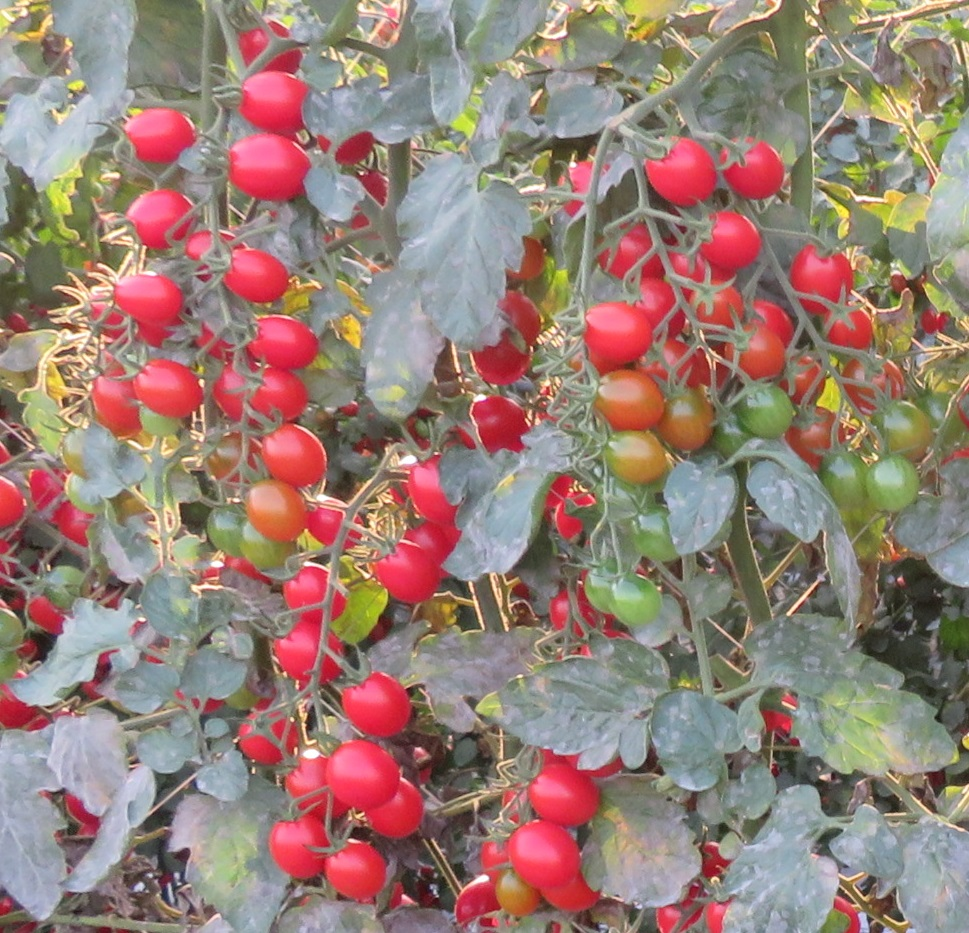green: (868, 402, 933, 456), (607, 573, 665, 633), (862, 458, 921, 516), (735, 385, 794, 440), (819, 446, 867, 513), (627, 507, 677, 568), (206, 505, 247, 562), (583, 569, 611, 617)
orange: (583, 373, 665, 431), (592, 431, 675, 486), (243, 481, 315, 540), (260, 426, 327, 485), (727, 325, 792, 382), (789, 405, 846, 464), (318, 126, 374, 166), (825, 305, 874, 350), (508, 236, 549, 280), (341, 398, 358, 418)
red: (222, 133, 309, 205), (323, 736, 407, 809), (337, 670, 420, 742), (500, 824, 583, 895), (231, 70, 313, 137), (645, 136, 717, 210), (231, 316, 322, 369), (135, 358, 208, 424), (530, 766, 607, 828), (684, 214, 765, 272), (125, 189, 198, 253), (117, 109, 203, 162), (275, 621, 345, 686), (790, 241, 854, 311), (583, 301, 650, 366), (109, 271, 187, 326), (322, 844, 393, 903), (219, 247, 292, 304), (266, 811, 327, 878), (721, 142, 790, 201), (377, 539, 440, 603), (230, 21, 305, 74), (460, 396, 528, 454), (364, 775, 424, 840), (471, 329, 534, 386), (283, 565, 347, 621), (631, 277, 686, 340), (237, 710, 298, 766), (248, 368, 307, 423), (305, 494, 362, 549), (547, 581, 596, 644), (408, 456, 448, 530), (51, 499, 97, 551), (456, 874, 500, 924), (1, 479, 24, 530), (6, 312, 31, 333)
